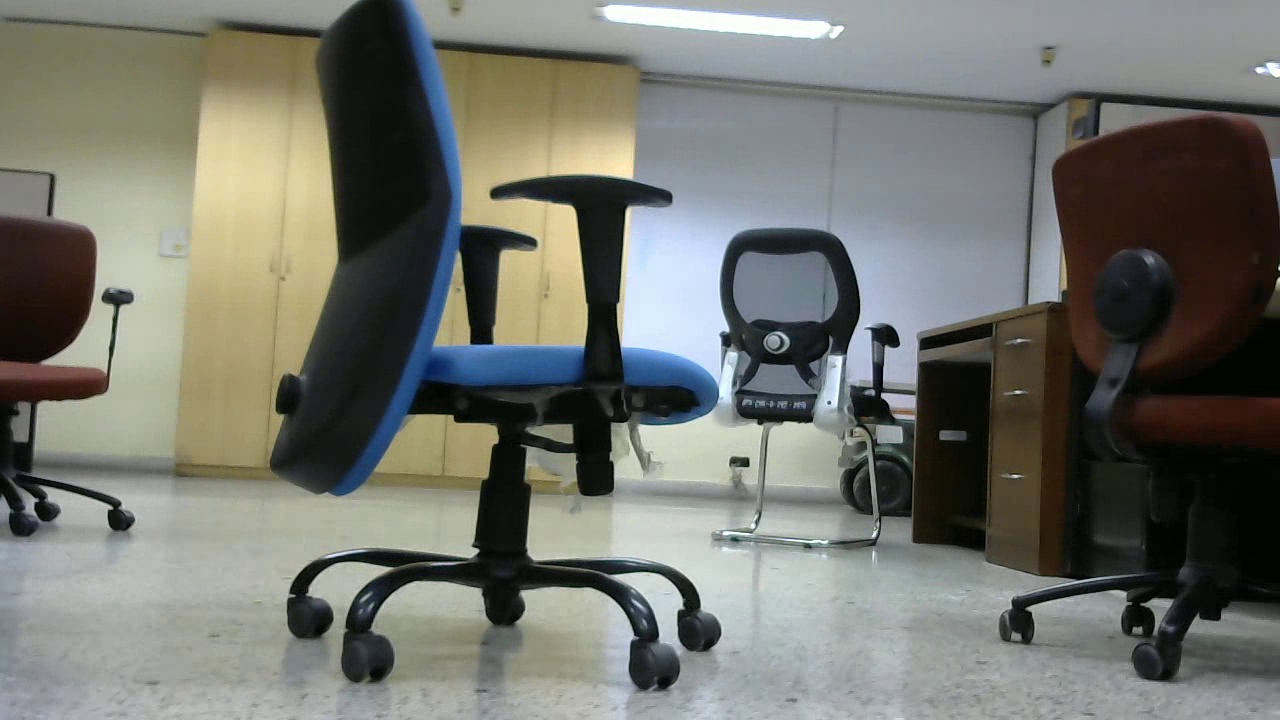chair: (289, 1, 718, 691), (1003, 104, 1273, 686), (710, 227, 886, 549), (1, 217, 135, 546)
